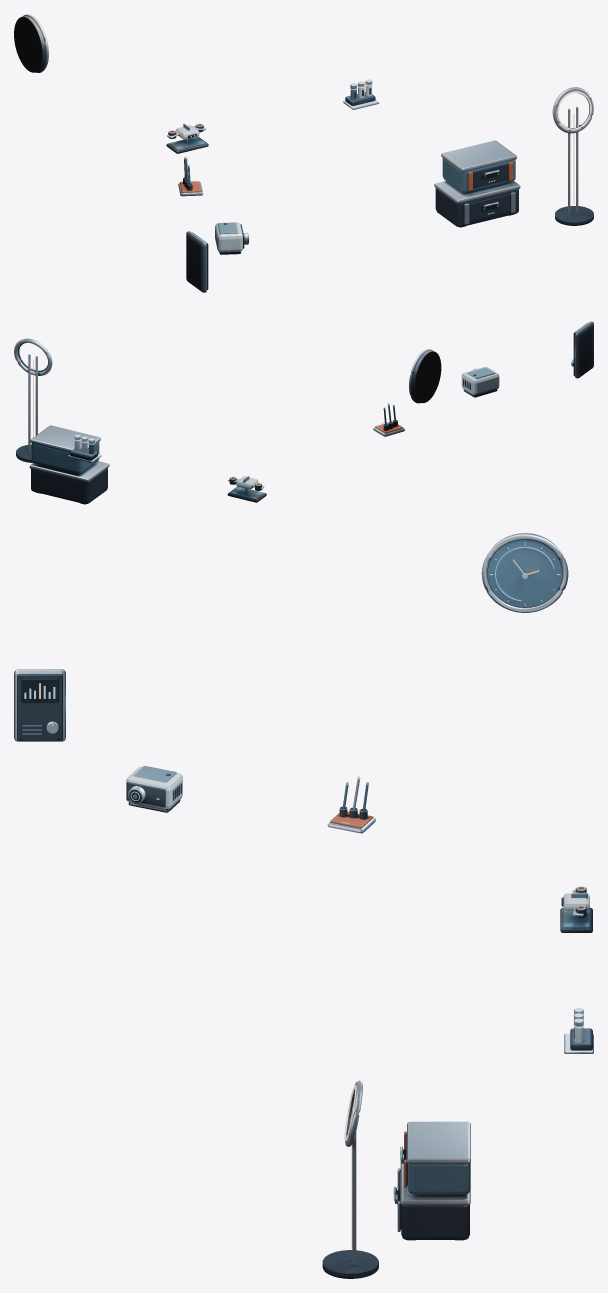
The model's file is orbital-enrichment-v5.glb.
The picture shows the model from 3 angles, top to bottom: view 1: azimuth 30°, elevation 25°; view 2: azimuth 150°, elevation 25°; view 3: azimuth 270°, elevation 25°; orthographic projection. The views are drawn at different scales.
Parts seen in each view (by area): view 1: v5_upper_equipment_case__baked, v5_modular_equipment_cases__baked, v5_orbital_clock__baked, v5_geometric_floor_lamp__baked, v5_mechanical_data_panel__baked, v5_portable_projector__baked, v5_floor_lamp_head__baked, v5_energy_capsule_rack__baked, v5_magnetic_pen_dock__baked, v5_scout_drone_display__baked, v5_scout_drone__baked; view 2: v5_modular_equipment_cases__baked, v5_upper_equipment_case__baked, v5_orbital_clock__baked, v5_mechanical_data_panel__baked, v5_portable_projector__baked, v5_geometric_floor_lamp__baked, v5_floor_lamp_head__baked, v5_energy_capsule_rack__baked, v5_magnetic_pen_dock__baked, v5_scout_drone_display__baked, v5_scout_drone__baked; view 3: v5_orbital_clock__baked, v5_upper_equipment_case__baked, v5_mechanical_data_panel__baked, v5_modular_equipment_cases__baked, v5_geometric_floor_lamp__baked, v5_portable_projector__baked, v5_magnetic_pen_dock__baked.
Boxes of the visible parts, box(x1,y1,x2,y2) form: v5_upper_equipment_case__baked: box(441, 140, 517, 192); v5_modular_equipment_cases__baked: box(434, 181, 520, 227); v5_orbital_clock__baked: box(14, 14, 48, 72); v5_geometric_floor_lamp__baked: box(555, 106, 593, 225); v5_mechanical_data_panel__baked: box(186, 231, 208, 292); v5_portable_projector__baked: box(215, 222, 244, 254); v5_floor_lamp_head__baked: box(552, 87, 593, 133); v5_energy_capsule_rack__baked: box(343, 79, 379, 109); v5_magnetic_pen_dock__baked: box(178, 157, 203, 196); v5_scout_drone_display__baked: box(166, 136, 208, 153); v5_scout_drone__baked: box(167, 123, 205, 139); v5_modular_equipment_cases__baked: box(29, 461, 109, 504); v5_upper_equipment_case__baked: box(30, 425, 100, 473); v5_orbital_clock__baked: box(409, 349, 441, 403); v5_mechanical_data_panel__baked: box(573, 321, 593, 378); v5_portable_projector__baked: box(461, 366, 499, 397); v5_geometric_floor_lamp__baked: box(16, 354, 37, 462); v5_floor_lamp_head__baked: box(14, 338, 52, 375); v5_energy_capsule_rack__baked: box(68, 434, 101, 462); v5_magnetic_pen_dock__baked: box(373, 404, 404, 436); v5_scout_drone_display__baked: box(227, 486, 266, 502); v5_scout_drone__baked: box(228, 476, 264, 490); v5_orbital_clock__baked: box(481, 533, 568, 612); v5_upper_equipment_case__baked: box(400, 1121, 470, 1194); v5_mechanical_data_panel__baked: box(14, 669, 65, 741); v5_modular_equipment_cases__baked: box(393, 1157, 470, 1240); v5_geometric_floor_lamp__baked: box(322, 1107, 378, 1278); v5_portable_projector__baked: box(126, 766, 182, 812); v5_magnetic_pen_dock__baked: box(327, 782, 375, 833).
Size of the model in its own units: 7.37 by 3.82 by 5.06.
1 material, 1 textured.
